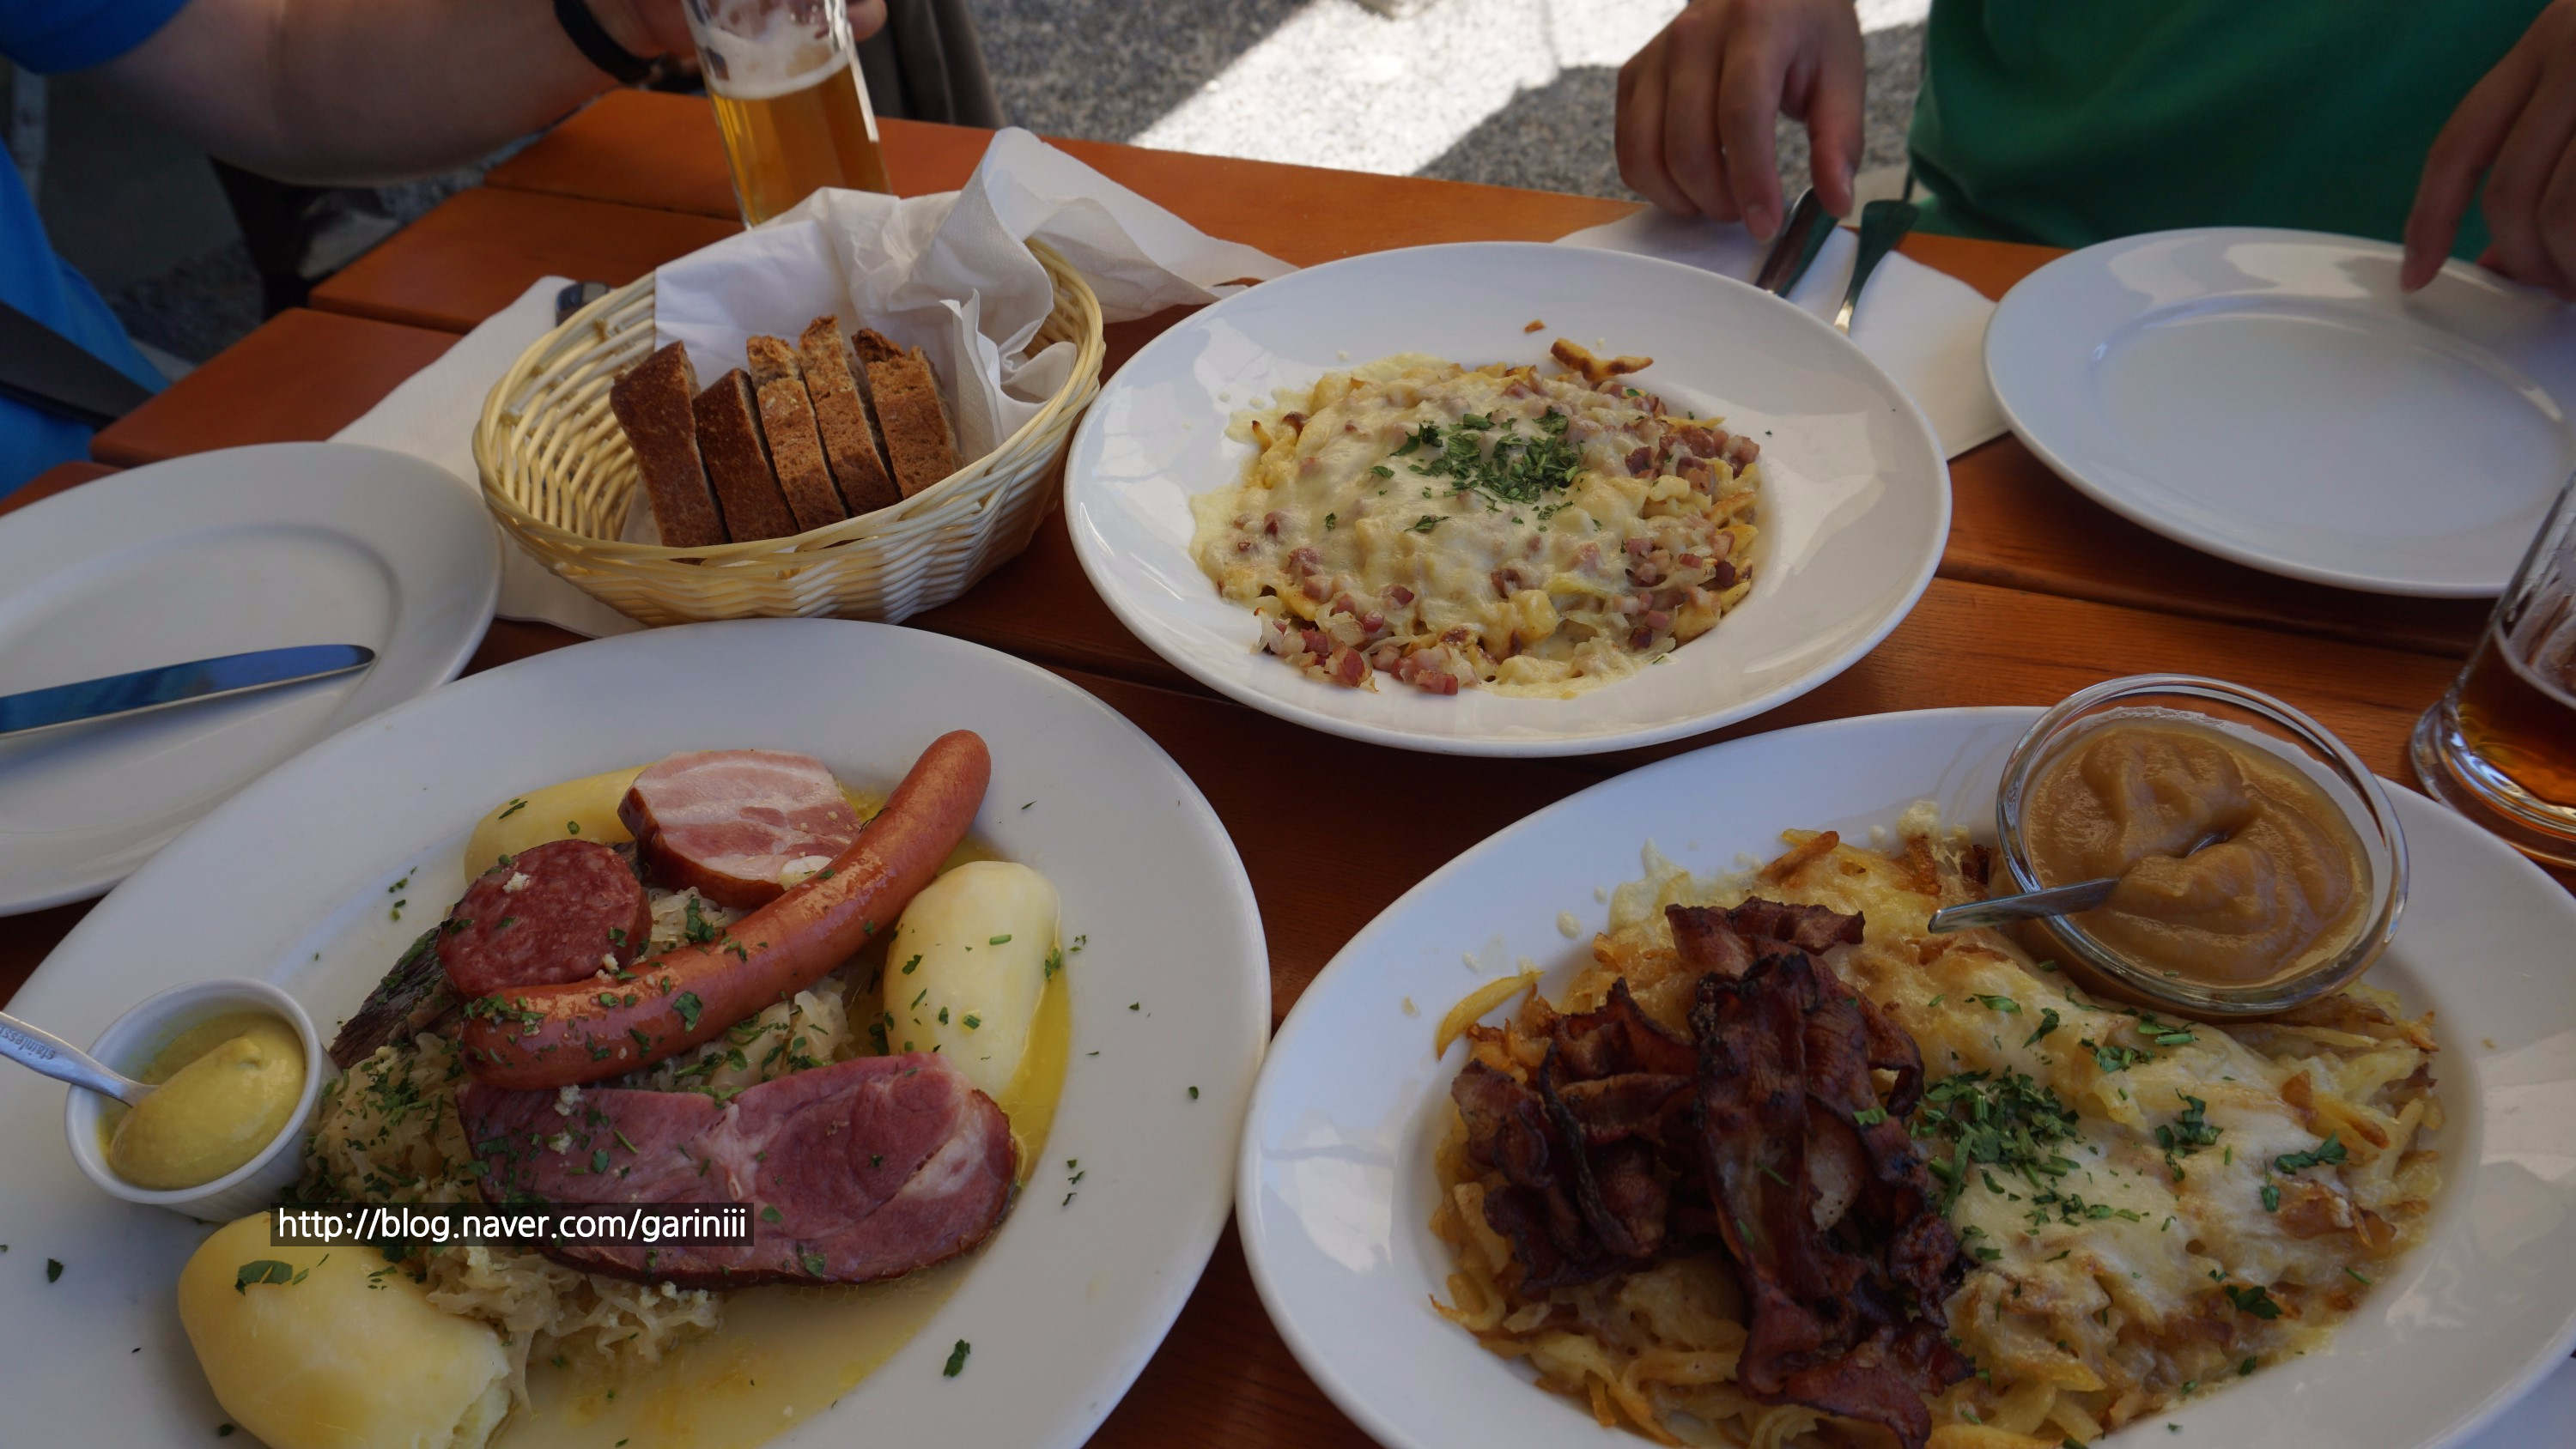boiled potatoes: (211, 1231, 513, 1449), (872, 837, 1063, 1093)
slice of bread: (600, 301, 950, 472)
